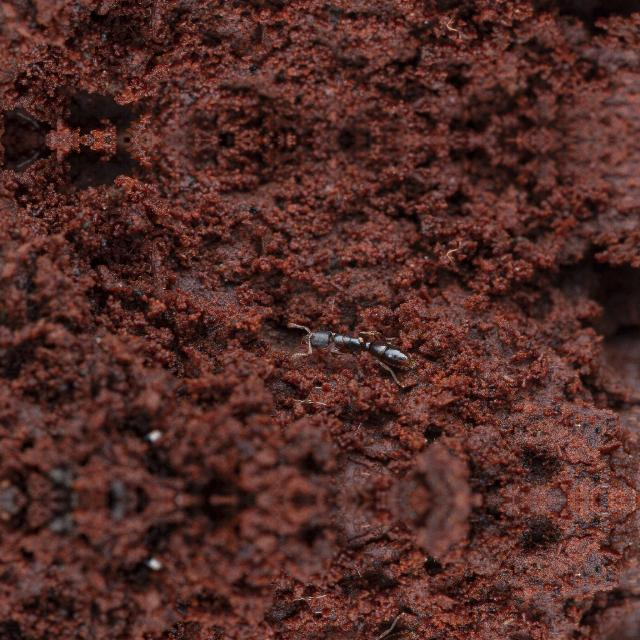Ponera: (293, 316, 425, 378), (293, 620, 425, 640)
